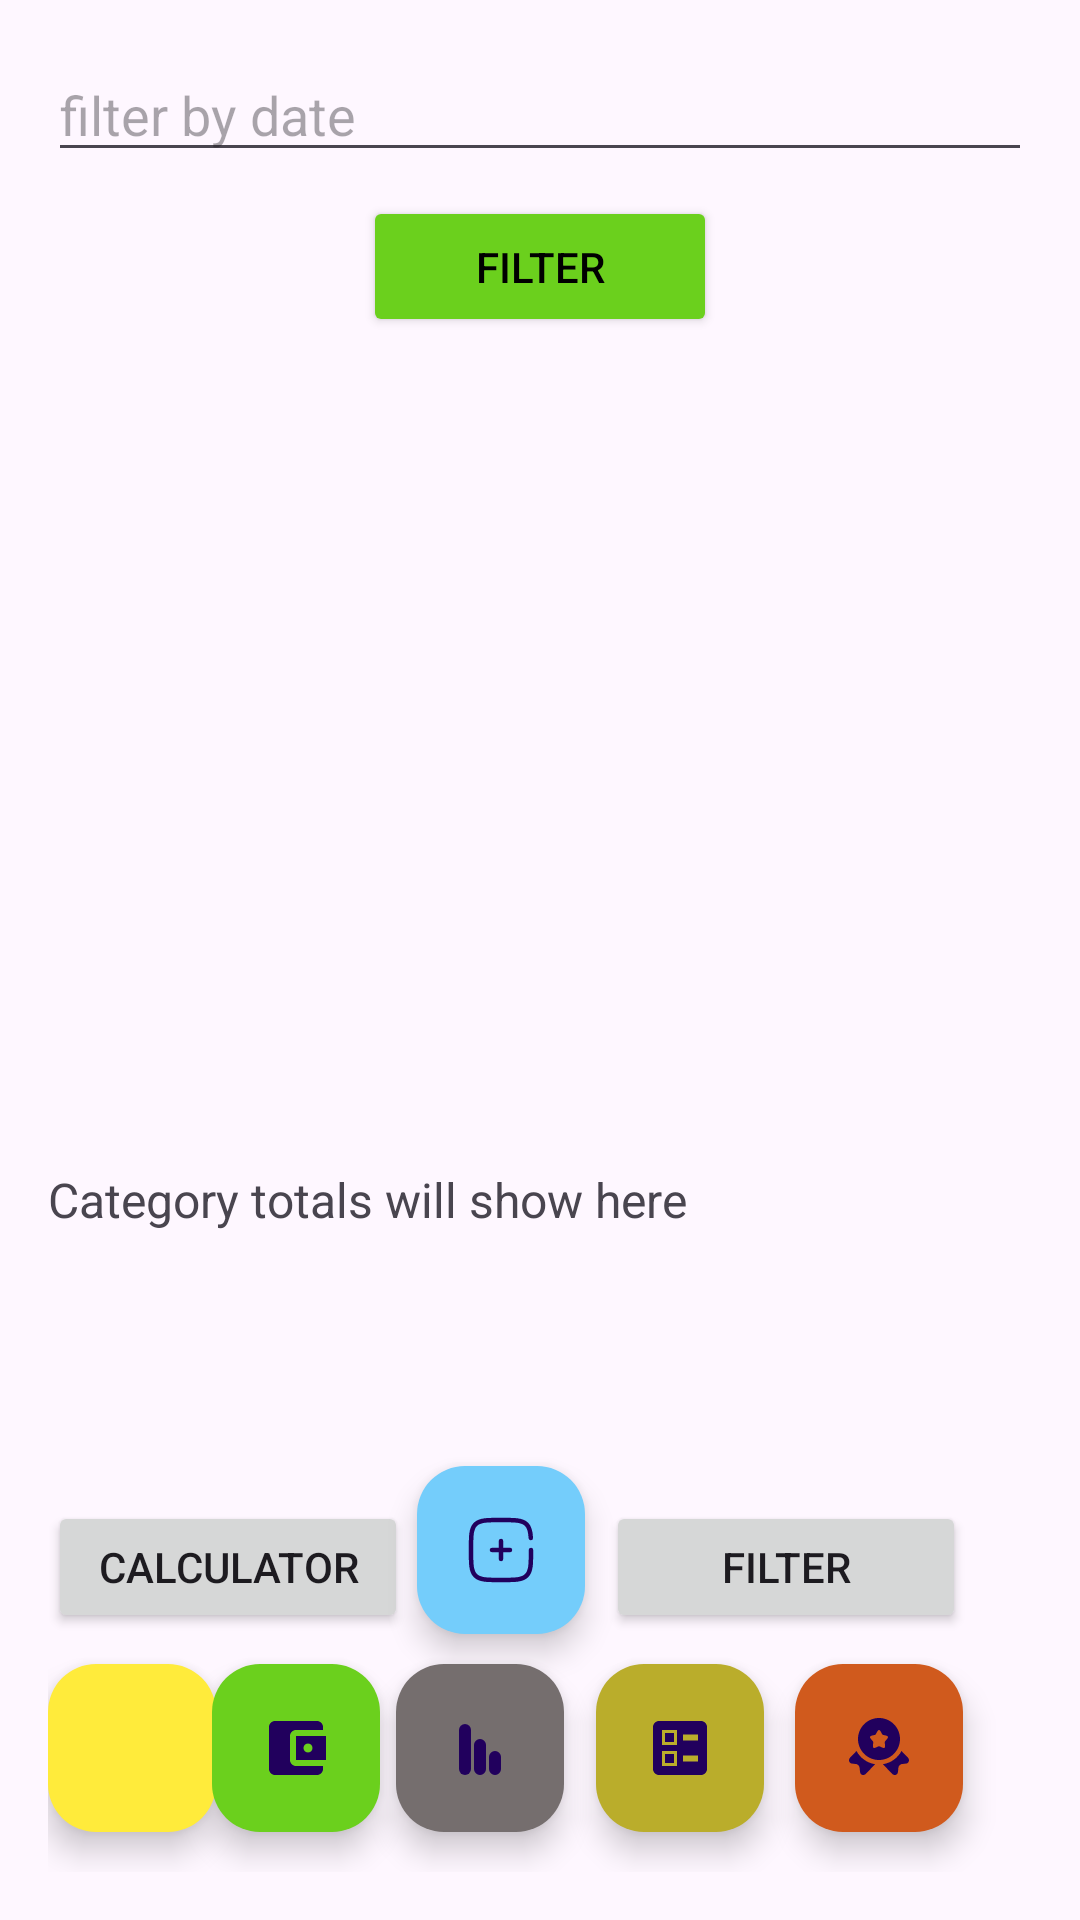

Point at icon controls on the screen. Image size 1080px×1920px, points as point (x, y).
adcat: point (501, 1550)
dgraph: point (480, 1748)
medal: point (879, 1748)
view ex: point (680, 1748)
wallet: point (296, 1748)
